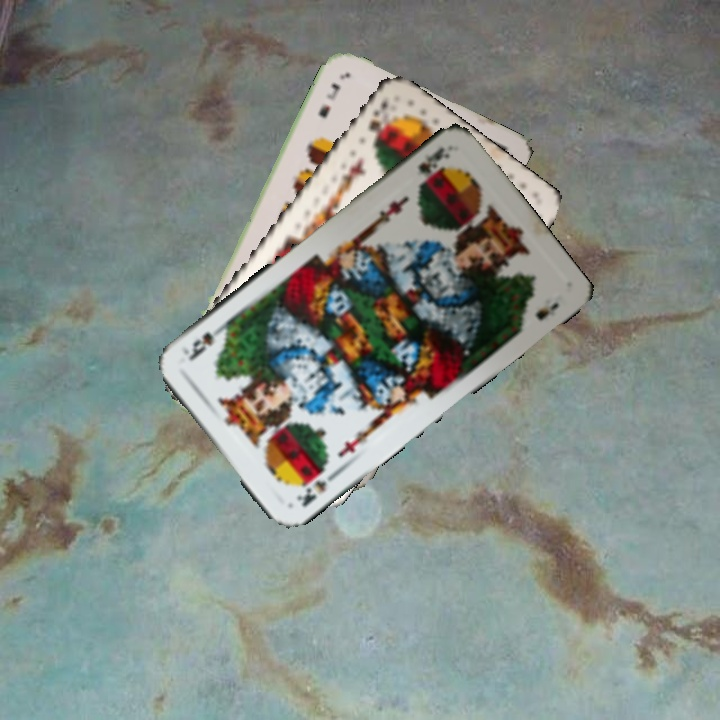E7: (314, 79, 343, 121)
SK: (413, 143, 453, 189), (292, 465, 330, 510), (364, 95, 391, 134)
